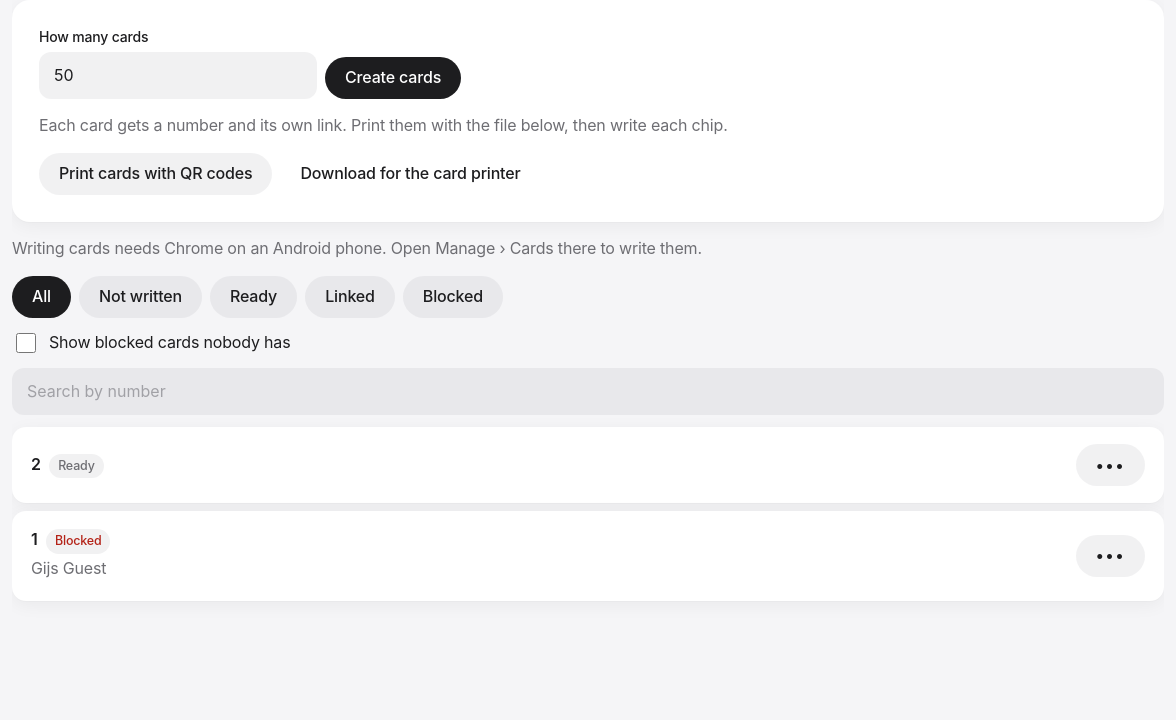
it: CardsTab › keeps blocked cards nobody has out of the way, and reuses one that turns up
Later steps or results of the test are not shown.
Expected: the text "2" is shown, x1=31 y1=454 x2=41 y2=474
Expected: the text "1" is shown, x1=31 y1=529 x2=38 y2=549
Click the checkbox labelled "Show blocked cards nobody has": (26, 343) x1=16 y1=333 x2=36 y2=353
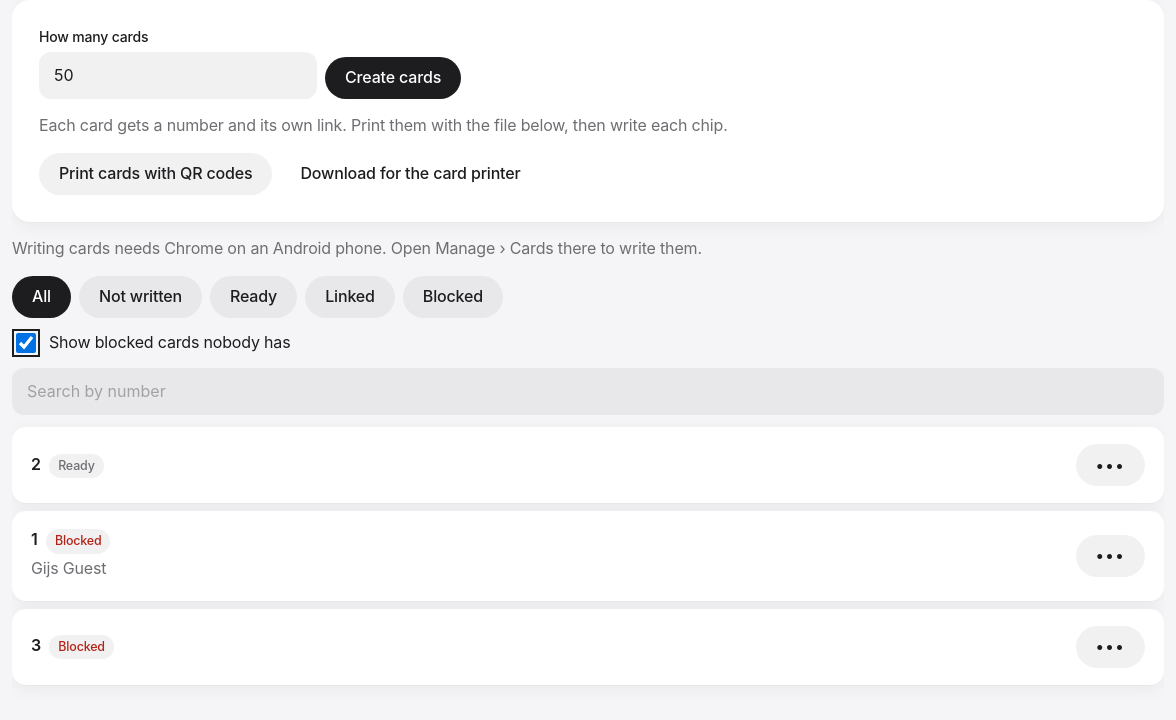
Expected: the text "3" is shown, x1=31 y1=635 x2=41 y2=655
